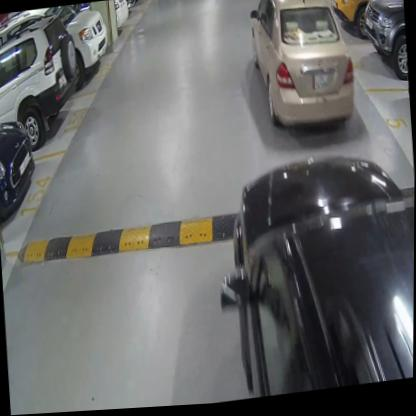np: (313, 77, 330, 98)
